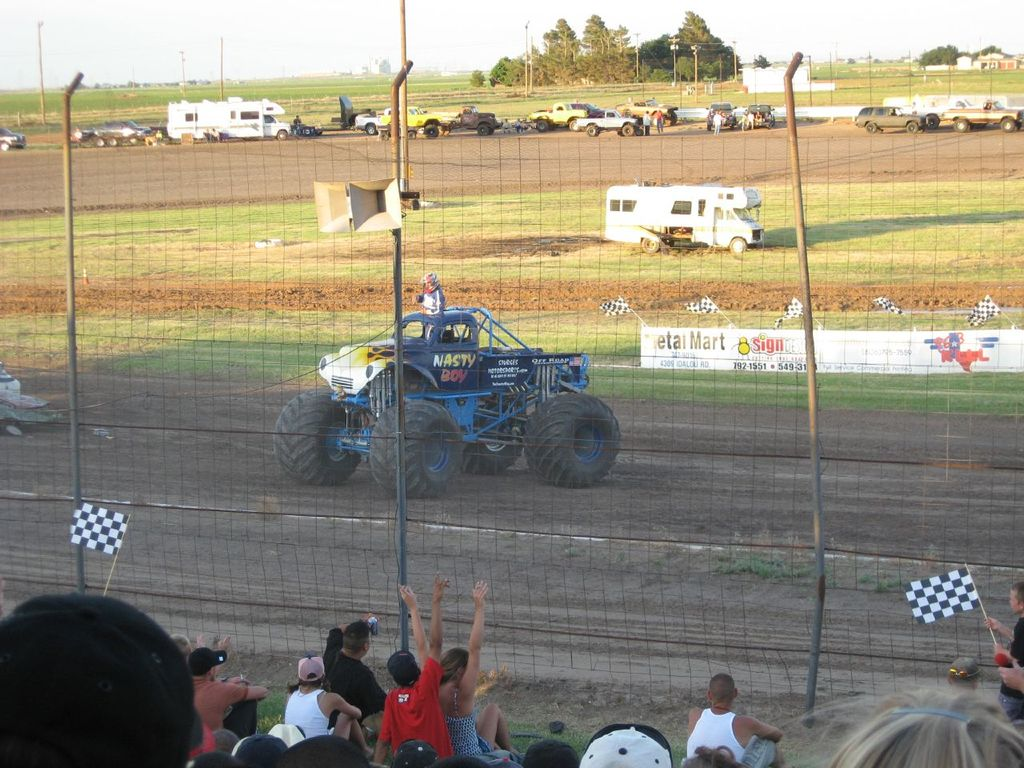Person: (0, 96, 1023, 767)
